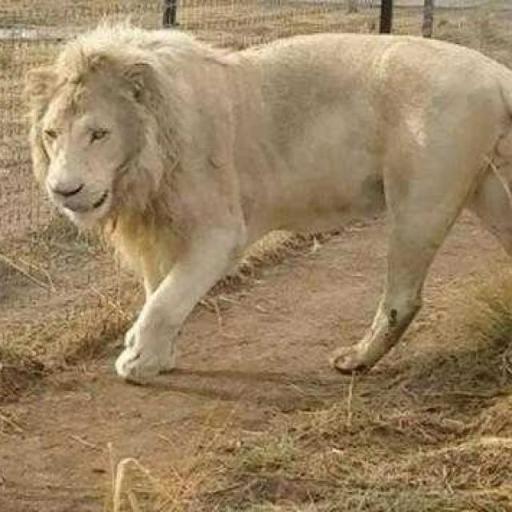Lion: (22, 11, 510, 386)
